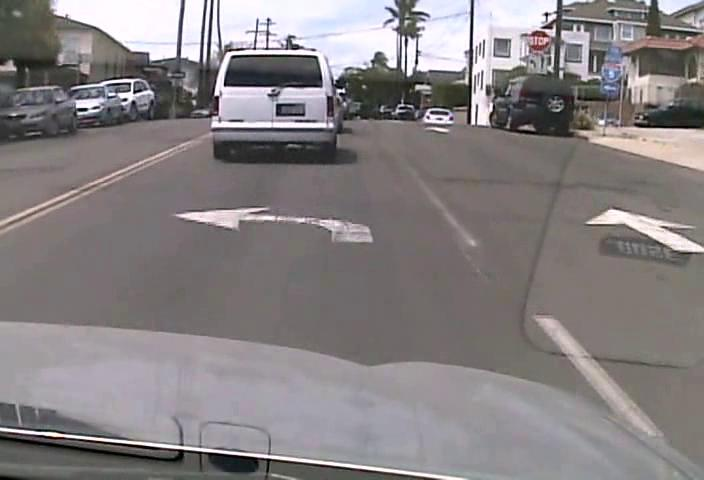stop: (527, 29, 551, 52)
